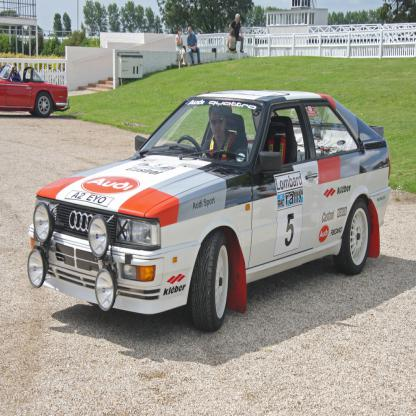Car: (28, 90, 392, 332), (0, 62, 69, 115)
